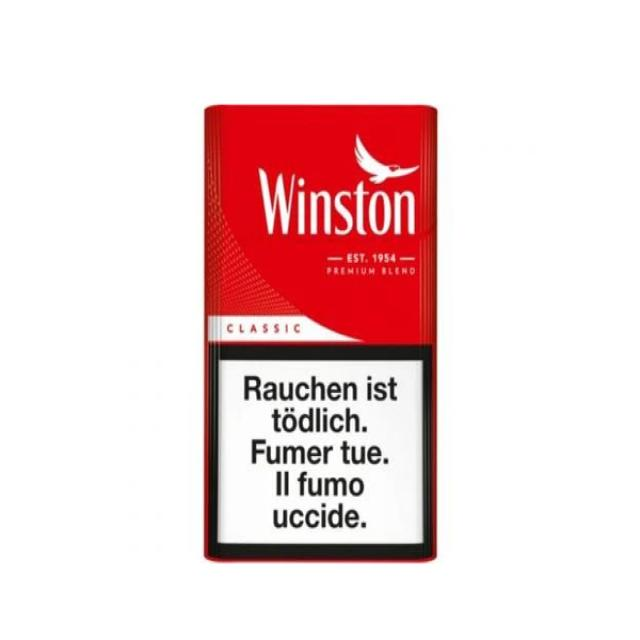winston: (203, 96, 442, 570)
